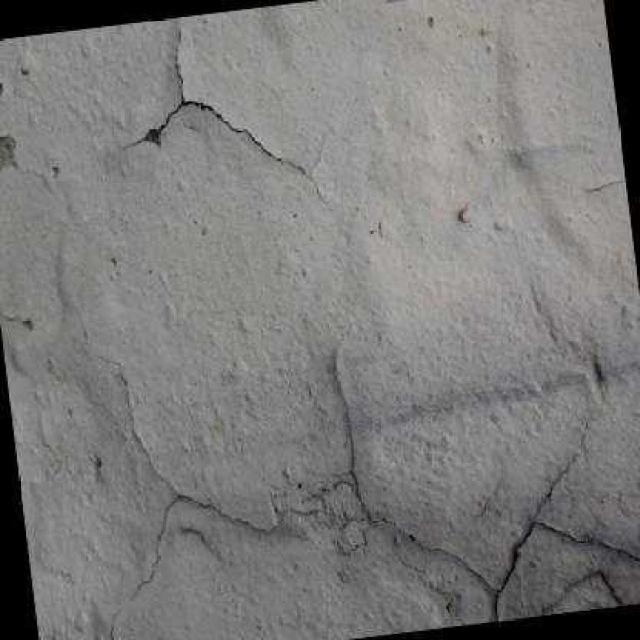D00: (101, 377, 273, 640), (489, 413, 640, 618), (131, 33, 286, 164)
